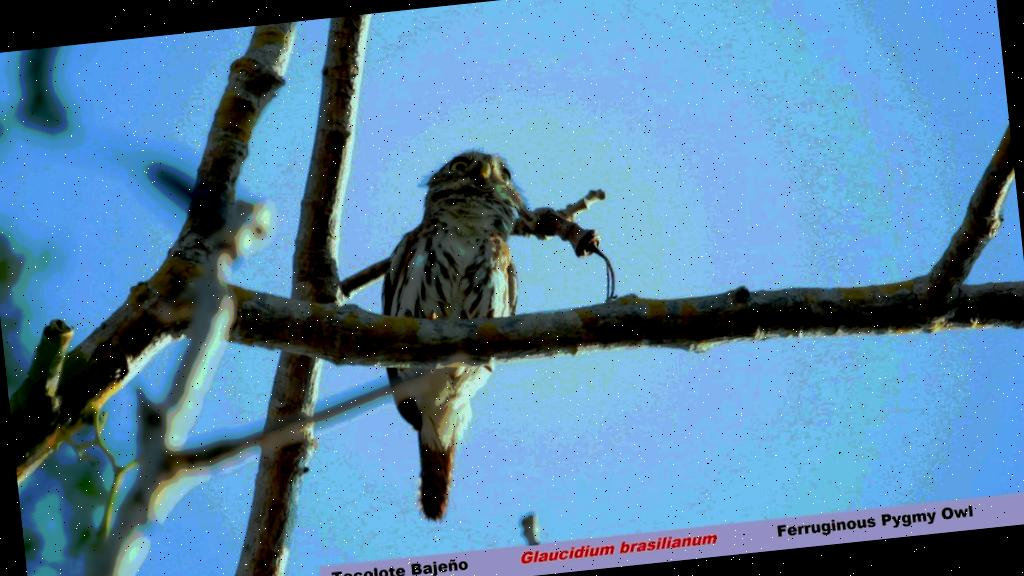Owl: (360, 140, 562, 532)
